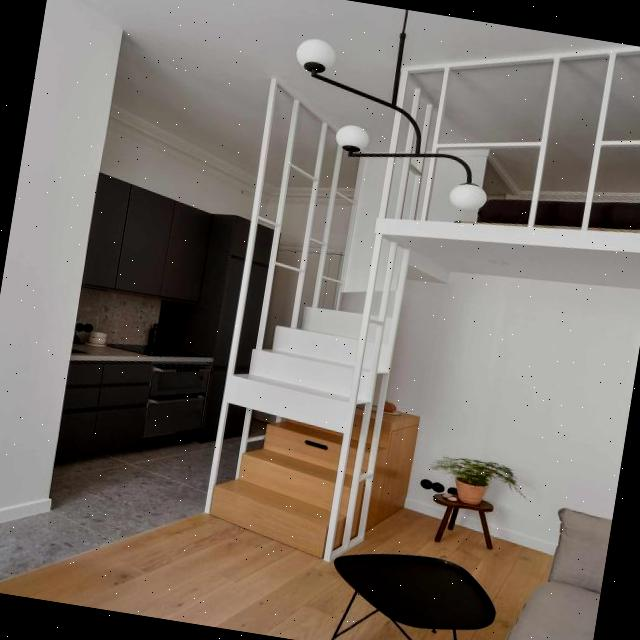stairs: (201, 293, 400, 566)
